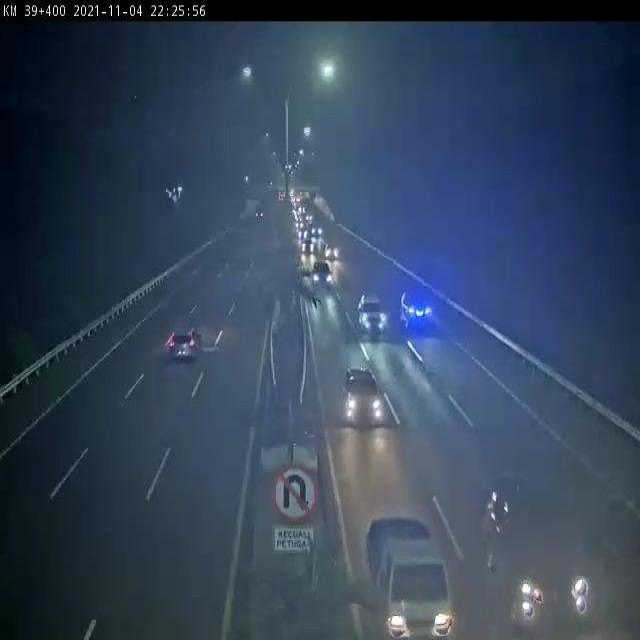car: (475, 470, 596, 634), (336, 356, 392, 433), (159, 309, 202, 371), (398, 282, 442, 338), (353, 287, 390, 348), (311, 256, 333, 289)
truck-s-: (365, 508, 456, 637)
